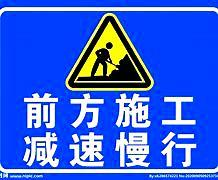sign: (2, 3, 214, 177)
